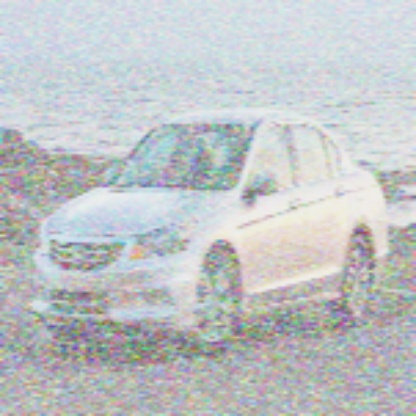Vehicle: (30, 108, 390, 360)
